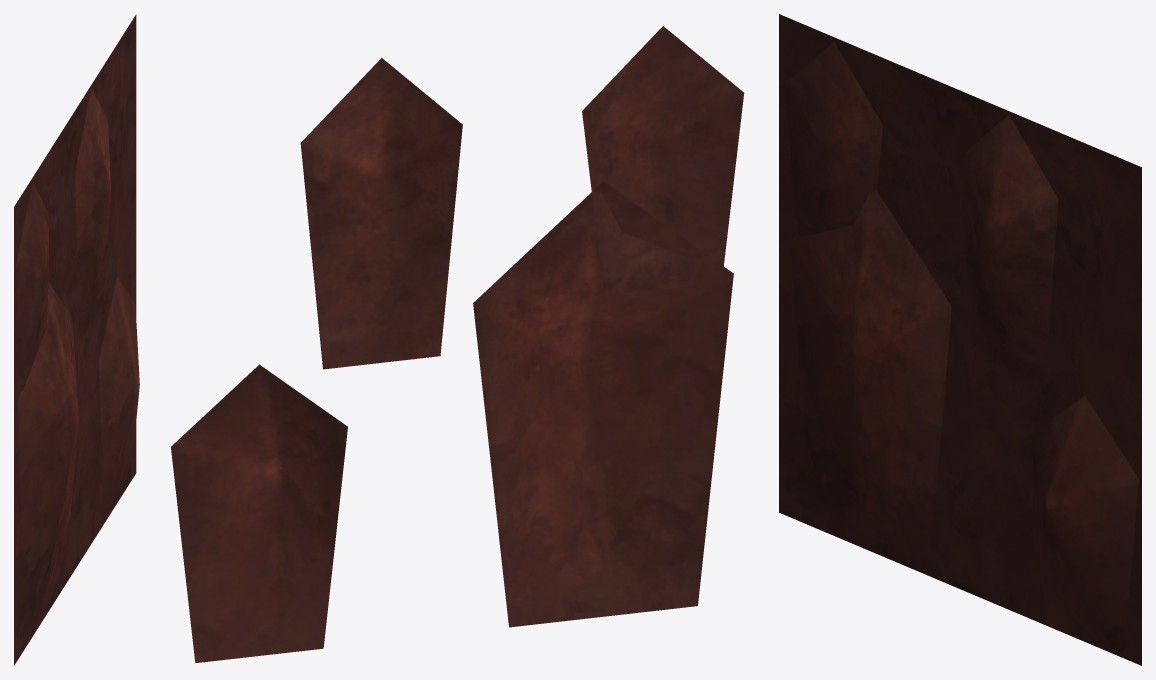
The model's file is lava_wall_diagonal_01.fbx.
The picture shows the model from 3 angles, left to right: view 1: azimuth 30°, elevation 25°; view 2: azimuth 150°, elevation 25°; view 3: azimuth 270°, elevation 25°; orthographic projection. The views are drawn at different scales.
Visible parts, largest first — view 1: lava_wall_diagonal_01-0; view 2: lava_wall_diagonal_01-0; view 3: lava_wall_diagonal_01-0.
Boxes of the visible parts, x1=… form: lava_wall_diagonal_01-0: x1=14, y1=14, x2=139, y2=665; lava_wall_diagonal_01-0: x1=171, y1=26, x2=744, y2=663; lava_wall_diagonal_01-0: x1=779, y1=14, x2=1141, y2=665.
Bounding box in the file's own units: 3.62 × 5.5 × 3.62.
